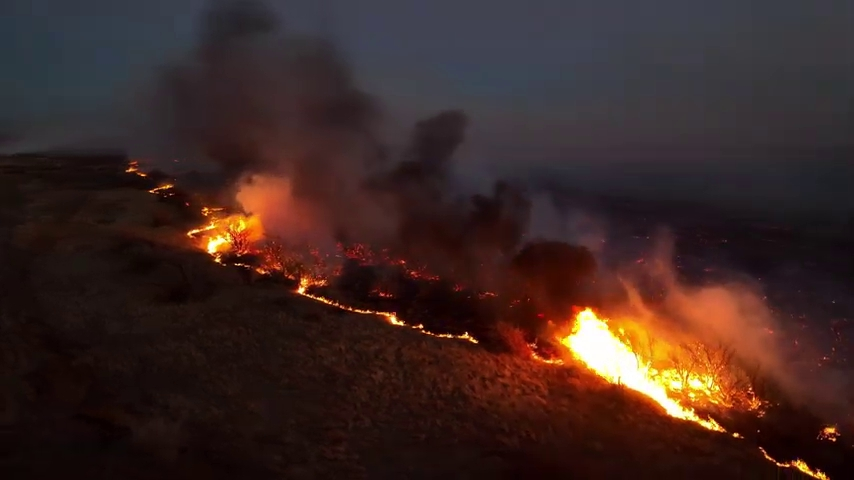forest_fire: (187, 206, 478, 341), (553, 309, 731, 431), (335, 243, 437, 279), (761, 449, 826, 477), (531, 348, 563, 363), (148, 182, 174, 197), (740, 389, 760, 408), (125, 162, 145, 176), (371, 288, 392, 299), (472, 291, 493, 296), (729, 431, 741, 437), (825, 432, 832, 435), (457, 285, 460, 288)
